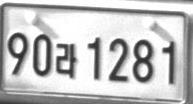0: (31, 33, 51, 76)
1: (159, 40, 181, 84), (84, 36, 105, 80)
2: (108, 38, 129, 82)
8: (131, 38, 154, 83)
9: (6, 31, 28, 75)
라: (55, 42, 77, 79)
